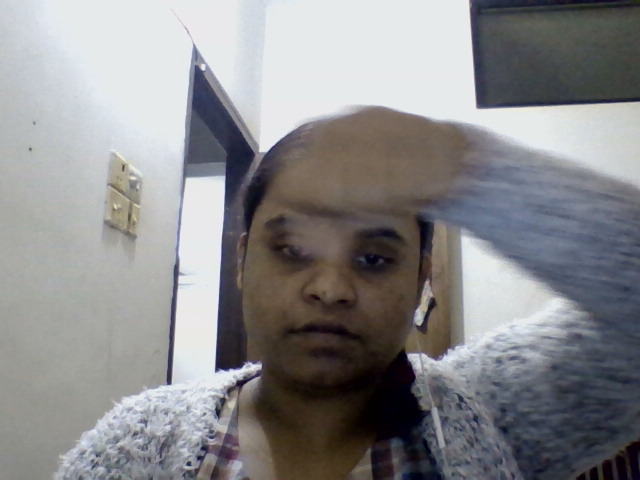Yes: (258, 90, 490, 237)
